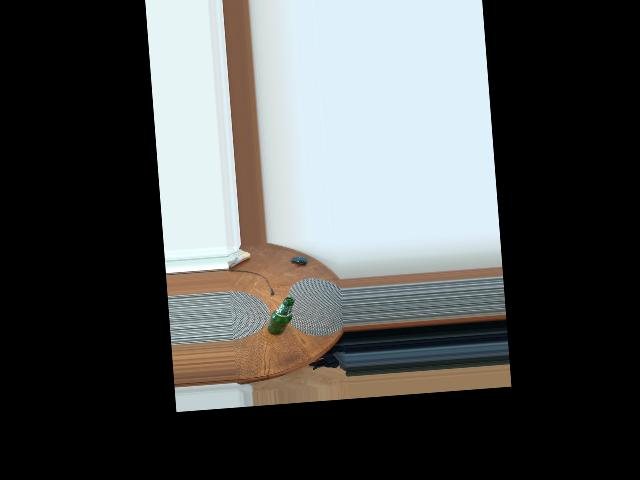beer: (263, 296, 297, 336)
